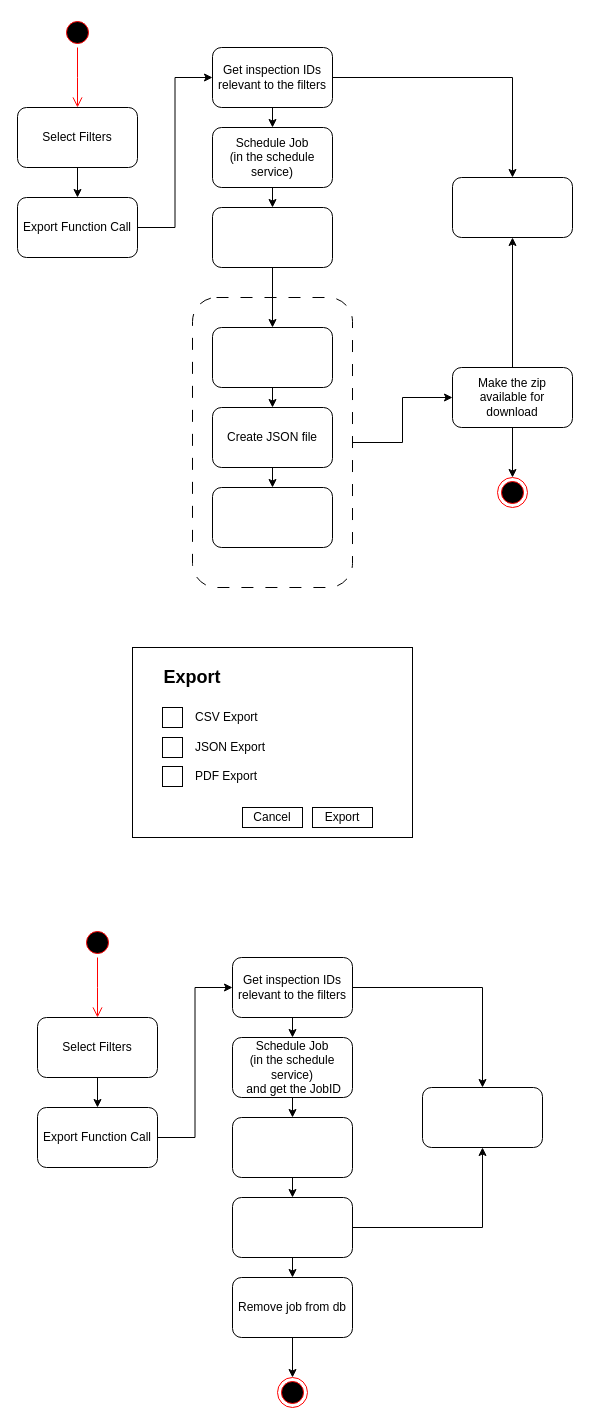
Image size: 590x1425. Some labels were removed from this diagram. Each missing label, with the centre of its shape:
Click cancel (Inspection Export screen): point 292,1147
Create zip stream to S3: point 272,237
Display status in Inspection Export page: point 512,207
Get Inspection Information: point 272,357
Get job from JobID and job.remove(): point 292,1227
Send through zip stream: point 272,517
Update status in Inspection Export page: point 482,1117
